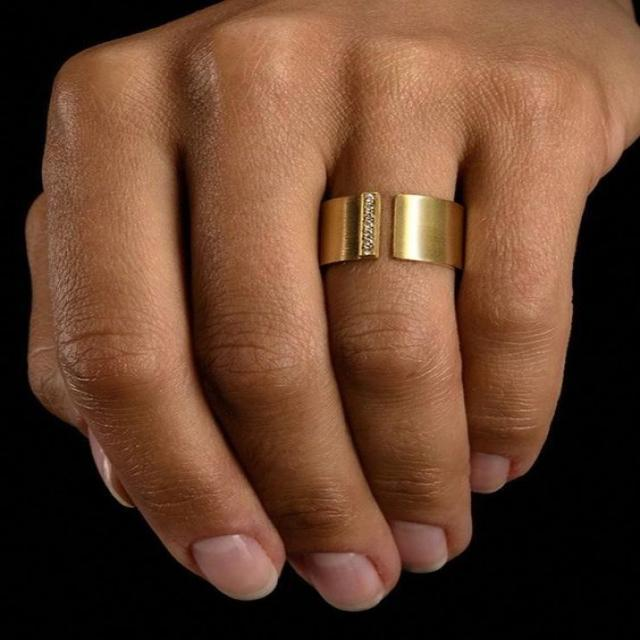Fingernail: (193, 535, 278, 601), (304, 553, 385, 611), (394, 520, 448, 574), (471, 454, 511, 492)
